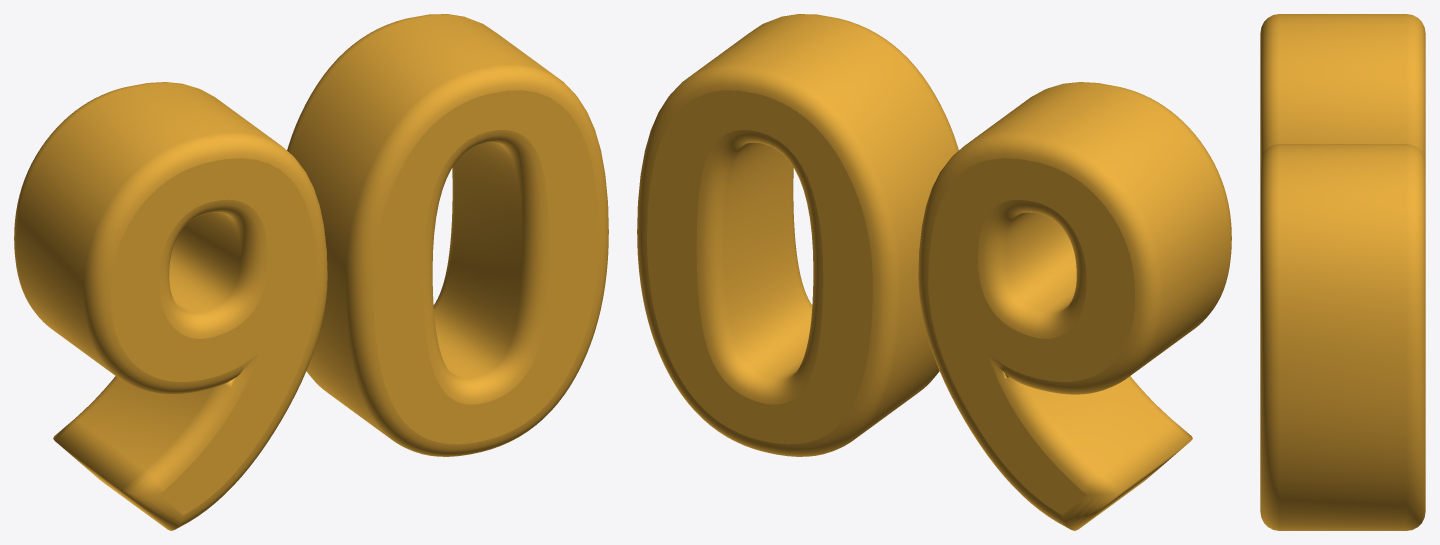
3 renders of one model, left to right at view 1: azimuth 30°, elevation 25°; view 2: azimuth 150°, elevation 25°; view 3: azimuth 270°, elevation 25°, orthographic. The views are drawn at different scales.
Visible parts, largest first — view 1: Text; view 2: Text; view 3: Text.
Part boxes in pixels (x1,y1,x2,y2): Text: (14,14,608,530); Text: (637,14,1231,530); Text: (1260,14,1425,530).
Bounding box in the file's own units: 90.25 × 63.6 × 26.
